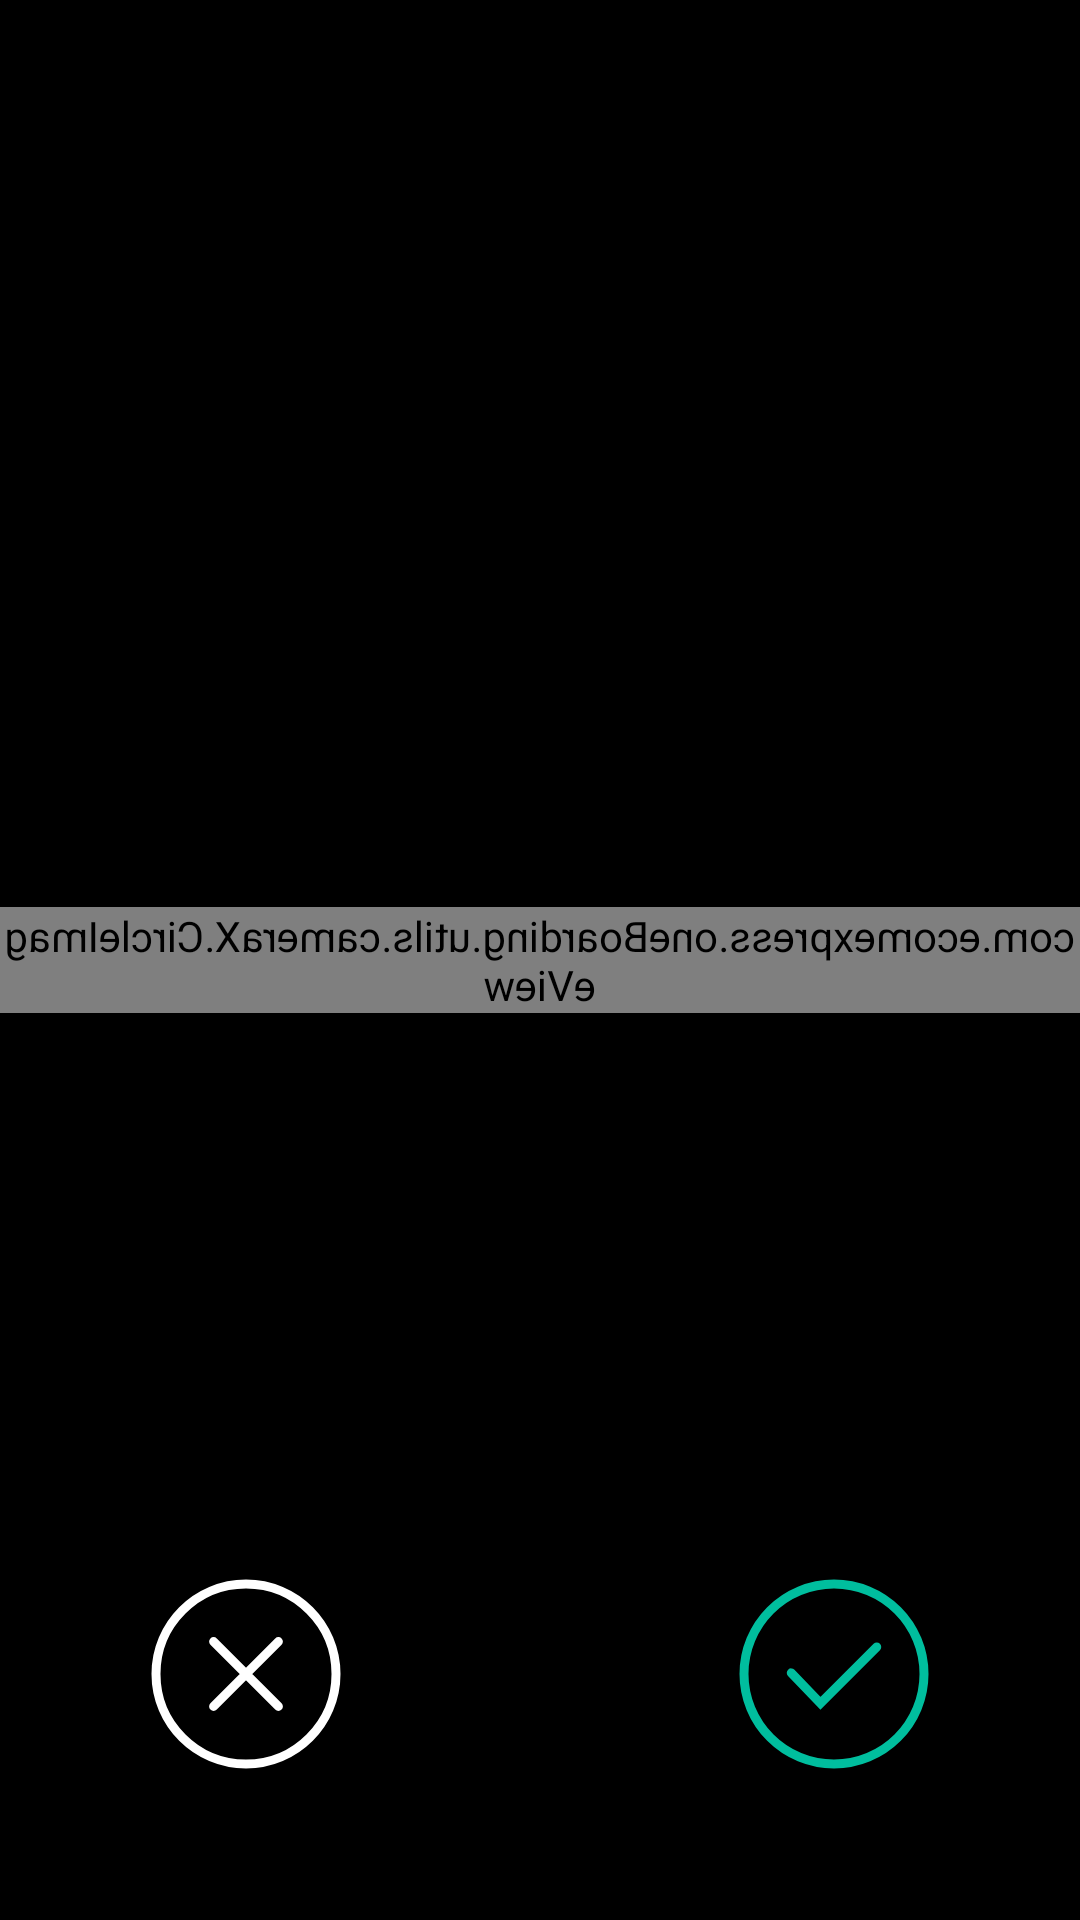

Point at icon controls on the screen. Image size 1080 x 1920, points as point (x, y).
retake: point (246, 1674)
submit pic: point (834, 1674)
